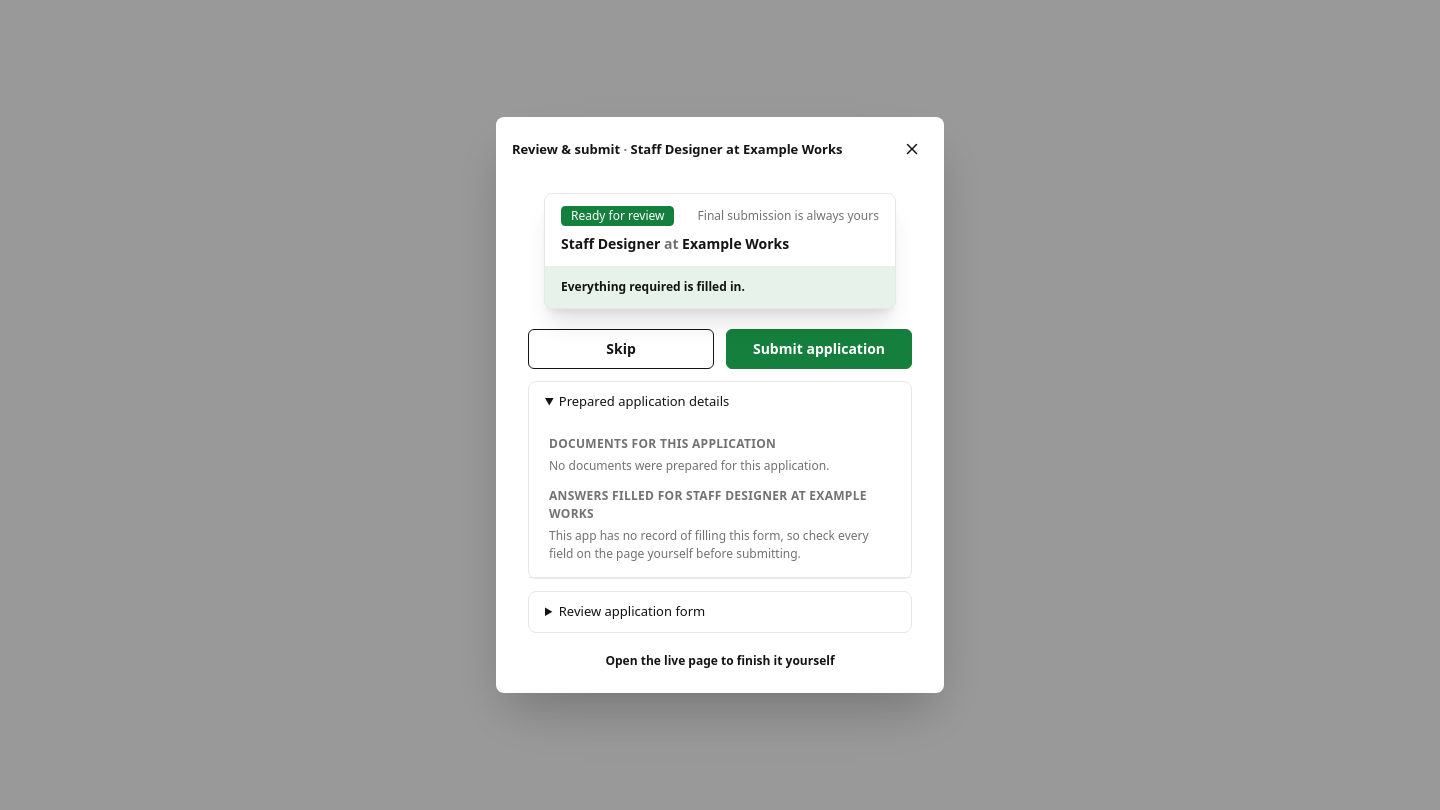
Scenario: ApplicationReviewSession error screen (#468) › keeps Try again locked after an unconfirmed submit until the employer page was opened
Click the button "Submit application": (819, 349) x1=726 y1=329 x2=912 y2=369
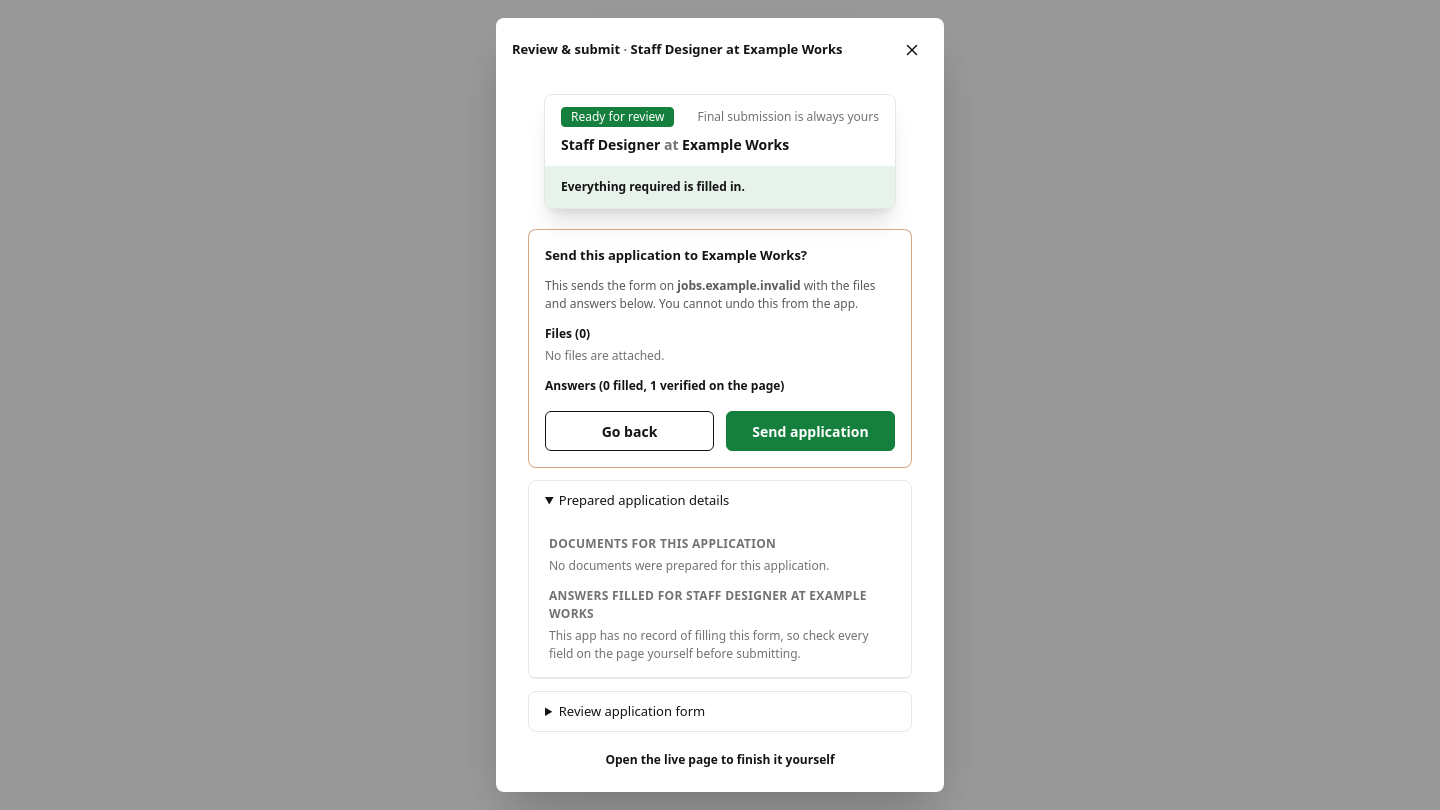
Click the button "Send application": (810, 431) x1=726 y1=411 x2=895 y2=451
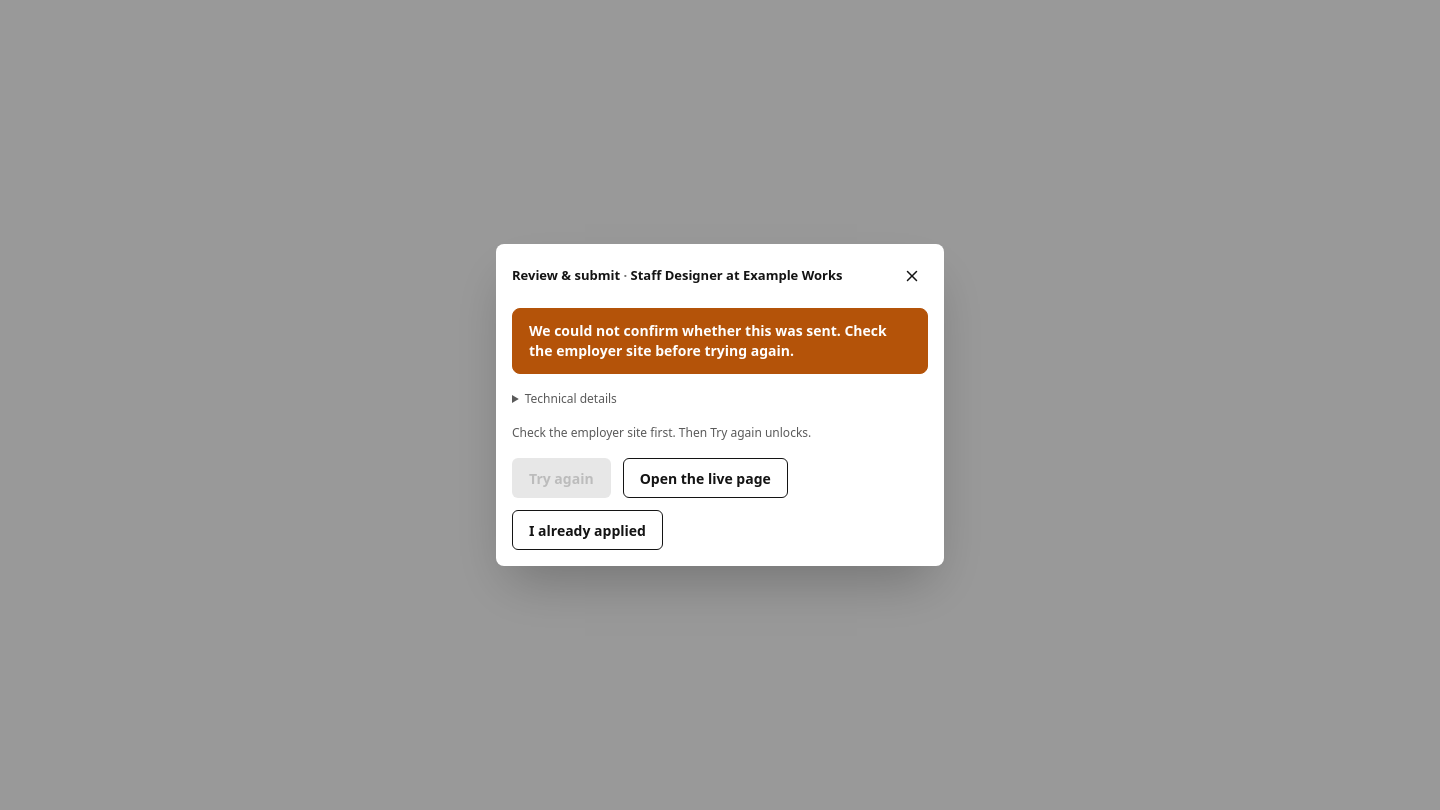
Now the message shows "We could not confirm whether this was sent. Check the employer site before trying again.", box x1=529 y1=321 x2=887 y2=360
Now the button "Try again" is disabled, box x1=512 y1=458 x2=611 y2=498
Click the button "Open the live page": (705, 478) x1=623 y1=458 x2=788 y2=498
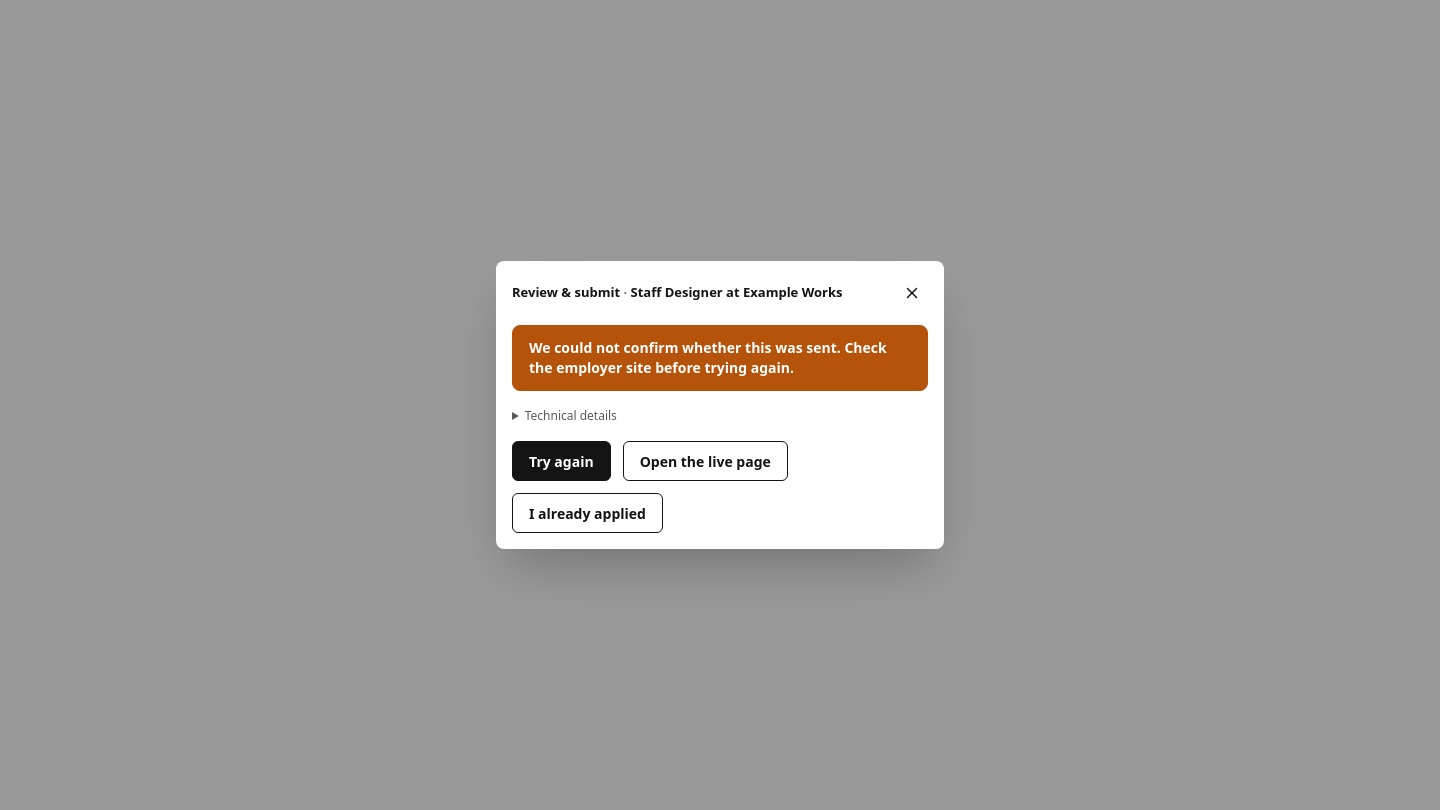
Now the button "Try again" is enabled, box x1=512 y1=441 x2=611 y2=481
